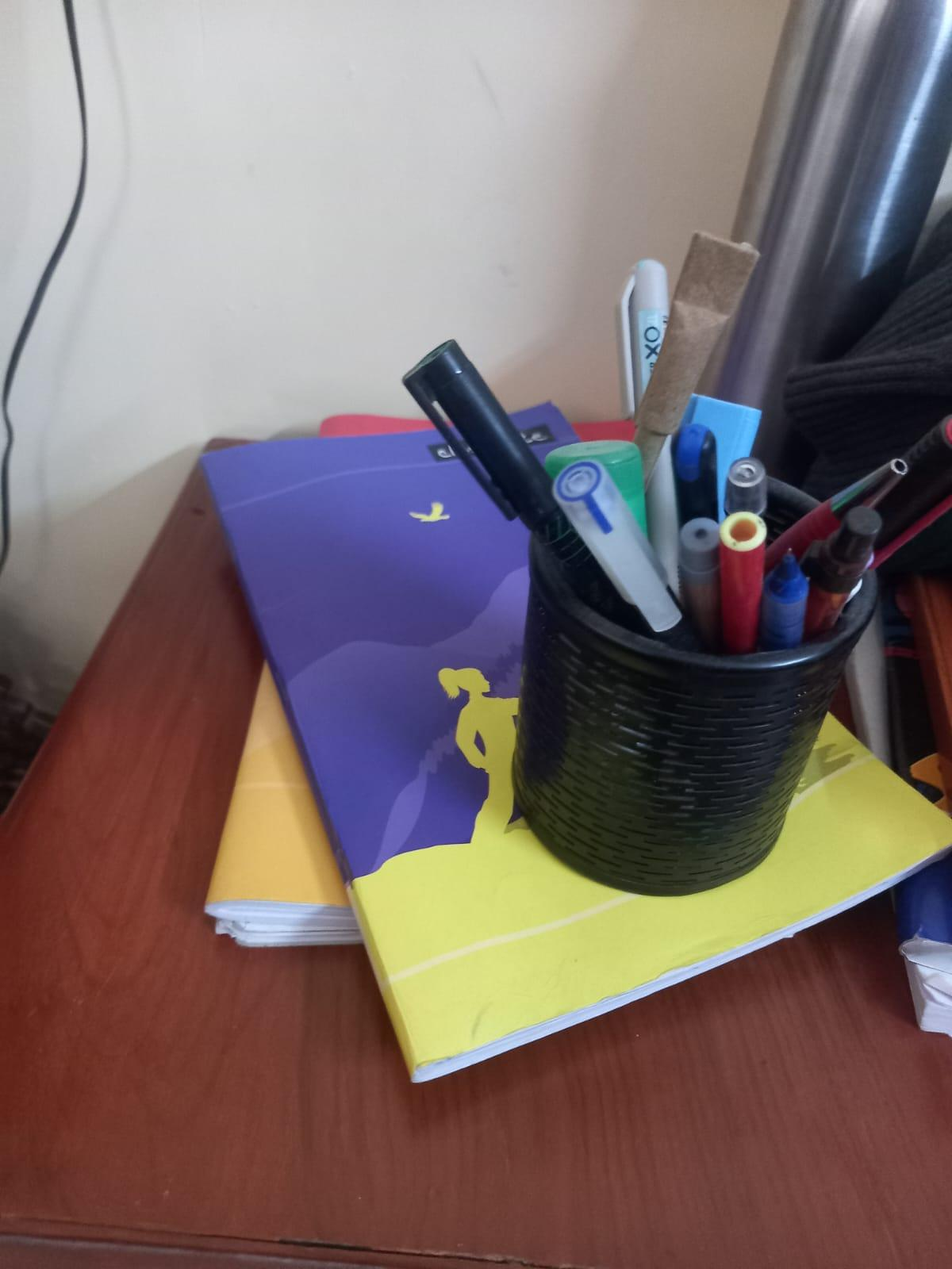notebooks: (190, 453, 499, 1057)
stationary holder: (434, 213, 939, 894)
